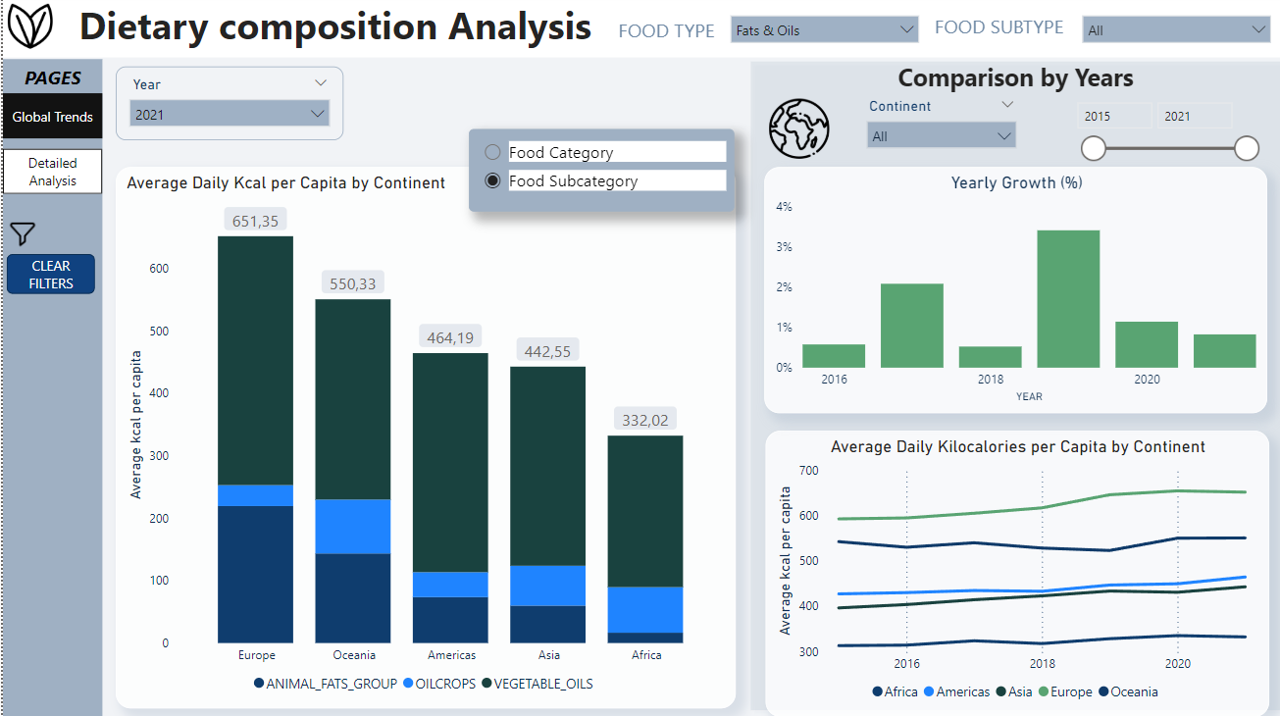

The dashboard page shown, as its layout file describes it:
{"tool":"powerbi","page":{"name":"Global Trends","canvas":[1280,720],"ordinal":0},"visuals":[{"type":"shape","box":[0,64.5,99.3,655.4],"z":0},{"type":"shape","box":[739.8,61.1,540.5,659.1],"z":1000},{"type":"shape","box":[0,0,1280.3,63.6],"z":2000},{"type":"textbox","box":[54.3,0,555,61.5],"z":3000},{"type":"slicer","fields":{"Values":["Dim_Food_Category.Food_Type_Group"]},"box":[715.4,10.9,208.7,43.4],"z":4000},{"type":"slicer","fields":{"Values":["Fact_diet_composition.YEAR"]},"box":[1058.8,98.1,202.3,73.2],"z":5000},{"type":"columnChart","title":"Average Daily Kcal per Capita by Continent","fields":{"Series":["Dim_Food_Category.Food_Type"],"Y":["Fact_diet_composition.Average_Kilocalories_Per_Continent"],"Category":["Dim_Country.Geographical group"]},"box":[113,172.5,618.2,540],"z":6000},{"type":"lineChart","title":"Average Daily Kilocalories per Capita by Continent","fields":{"Category":["Fact_diet_composition.YEAR"],"Series":["Dim_Country.Geographical group"],"Y":["Fact_diet_composition.Average_Kilocalories_Per_Continent"]},"box":[760.2,435,502.2,285.4],"z":7000},{"type":"slicer","title":"Year","fields":{"Values":["Fact_diet_composition.YEAR"]},"box":[112.5,72.1,227.4,73.4],"z":8000},{"type":"slicer","fields":{"Values":["Dim_Food_Category.Food_Type"]},"box":[1066.5,10.9,208.7,53.1],"z":9000},{"type":"columnChart","title":"Yearly Growth (%)","fields":{"Category":["Fact_diet_composition.YEAR"],"Y":["Fact_diet_composition.LAST_YEAR_PERCENTAGE"]},"box":[759.7,172.5,501.5,245.8],"z":10000},{"type":"image","box":[0,2.4,54.3,59.1],"z":11000},{"type":"textbox","box":[924.1,14.5,153.2,36.2],"z":12000},{"type":"textbox","box":[609.3,18.1,121.9,36.2],"z":13000},{"type":"textbox","box":[739.8,61.1,540.5,45.2],"z":14000},{"type":"image","box":[759.7,98.1,69.5,73.2],"z":15000},{"type":"slicer","fields":{"Values":["Dim_Country.Geographical group"]},"box":[851.5,98.1,170.1,73.2],"z":16000},{"type":"image","box":[0,217.2,39.7,42.2],"z":17000},{"type":"textbox","box":[0,64.5,99.3,41],"z":18000},{"type":"pageNavigator","box":[0,99.3,99.3,101.8],"z":19000},{"type":"shape","box":[3.7,259.4,88.1,39.7],"z":20000},{"type":"slicer","fields":{"Values":["Group_By_Parameter.Group_By_Parameter"]},"box":[465.2,134.5,264.8,82.3],"z":21000}]}

Visuals, with their boxes in screenshot pixels (x1, y1, x2, y2), scaled from the page's 1280x720 canvas onto the 1280x716 screenshot:
shape: pyautogui.locateOnScreen(0, 64, 99, 715)
shape: pyautogui.locateOnScreen(740, 61, 1279, 715)
shape: pyautogui.locateOnScreen(0, 0, 1279, 63)
textbox: pyautogui.locateOnScreen(54, 0, 609, 61)
slicer - Dim_Food_Category.Food_Type_Group: pyautogui.locateOnScreen(715, 11, 924, 54)
slicer - Fact_diet_composition.YEAR: pyautogui.locateOnScreen(1059, 98, 1261, 170)
"Average Daily Kcal per Capita by Continent" columnChart: pyautogui.locateOnScreen(113, 172, 731, 709)
"Average Daily Kilocalories per Capita by Continent" lineChart: pyautogui.locateOnScreen(760, 433, 1262, 715)
"Year" slicer: pyautogui.locateOnScreen(112, 72, 340, 145)
slicer - Dim_Food_Category.Food_Type: pyautogui.locateOnScreen(1066, 11, 1275, 64)
"Yearly Growth (%)" columnChart: pyautogui.locateOnScreen(760, 172, 1261, 416)
image: pyautogui.locateOnScreen(0, 2, 54, 61)
textbox: pyautogui.locateOnScreen(924, 14, 1077, 50)
textbox: pyautogui.locateOnScreen(609, 18, 731, 54)
textbox: pyautogui.locateOnScreen(740, 61, 1279, 106)
image: pyautogui.locateOnScreen(760, 98, 829, 170)
slicer - Dim_Country.Geographical group: pyautogui.locateOnScreen(852, 98, 1022, 170)
image: pyautogui.locateOnScreen(0, 216, 40, 258)
textbox: pyautogui.locateOnScreen(0, 64, 99, 105)
pageNavigator: pyautogui.locateOnScreen(0, 99, 99, 200)
shape: pyautogui.locateOnScreen(4, 258, 92, 297)
slicer - Group_By_Parameter.Group_By_Parameter: pyautogui.locateOnScreen(465, 134, 730, 216)
